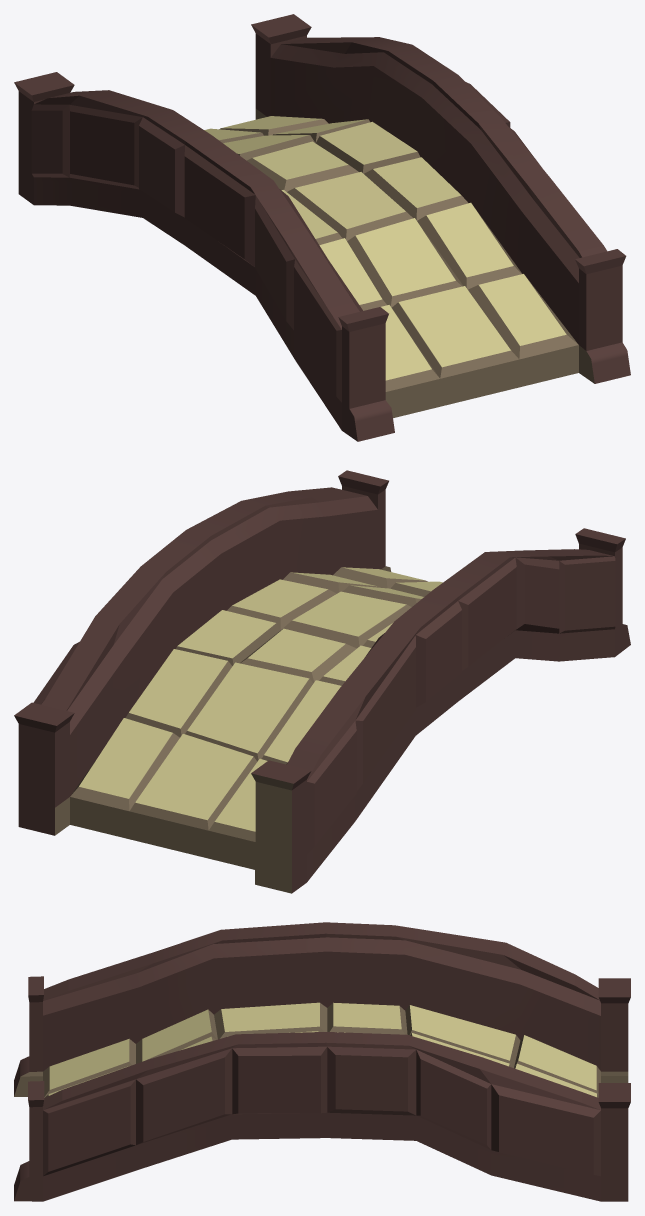
The model's file is bridge.fbx.
3 views of the same model, one above another, from view 1: azimuth 30°, elevation 25°; view 2: azimuth 150°, elevation 25°; view 3: azimuth 270°, elevation 25° (orthographic). The views are drawn at different scales.
Parts seen in each view (by area): view 1: pCube1; view 2: pCube1; view 3: pCube1.
Part boxes in pixels (left/top/right/bottom): pCube1: left=14, top=14, right=630, bottom=441; pCube1: left=14, top=470, right=630, bottom=893; pCube1: left=14, top=922, right=630, bottom=1201.
Size of the model in its own units: 342 by 191 by 672.
